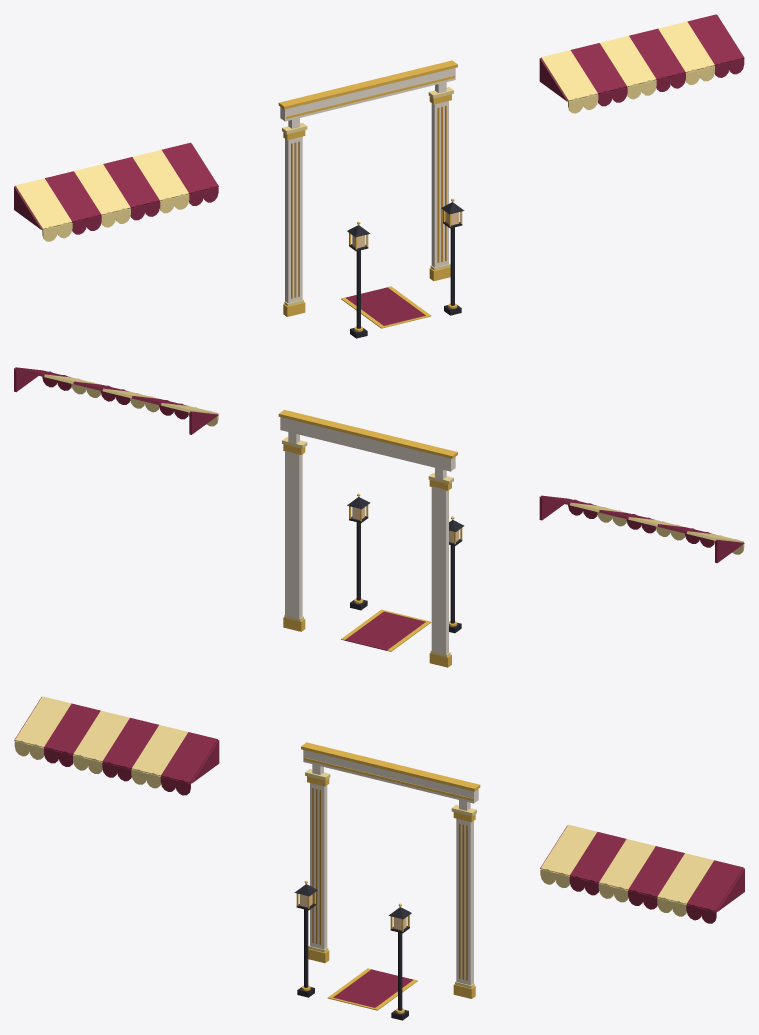
File: CatCafe_Plot_ThemeGrand_48x37.glb
The picture shows the model from 3 angles, top to bottom: view 1: azimuth 30°, elevation 25°; view 2: azimuth 150°, elevation 25°; view 3: azimuth 330°, elevation 25°; orthographic projection.
Parts seen in each view (by area): view 1: CatCafe_Plot_ThemeGrand_48x37_Awning, CatCafe_Plot_ThemeGrand_48x37; view 2: CatCafe_Plot_ThemeGrand_48x37, CatCafe_Plot_ThemeGrand_48x37_Awning; view 3: CatCafe_Plot_ThemeGrand_48x37_Awning, CatCafe_Plot_ThemeGrand_48x37.
Boxes of the visible parts, box(x1,y1,x2,y2) form: CatCafe_Plot_ThemeGrand_48x37_Awning: box(14, 14, 744, 241); CatCafe_Plot_ThemeGrand_48x37: box(278, 60, 464, 338); CatCafe_Plot_ThemeGrand_48x37: box(278, 410, 464, 667); CatCafe_Plot_ThemeGrand_48x37_Awning: box(14, 367, 744, 563); CatCafe_Plot_ThemeGrand_48x37_Awning: box(14, 696, 744, 923); CatCafe_Plot_ThemeGrand_48x37: box(294, 742, 480, 1020).
Bounding box in the file's own units: 44.15 × 12.75 × 4.86.
Materials: 1 (1 with a texture image).
